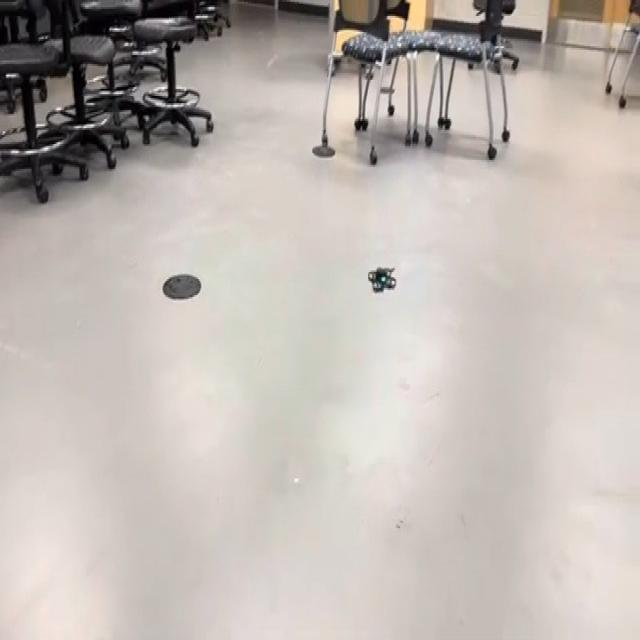drone: (362, 254, 399, 304)
